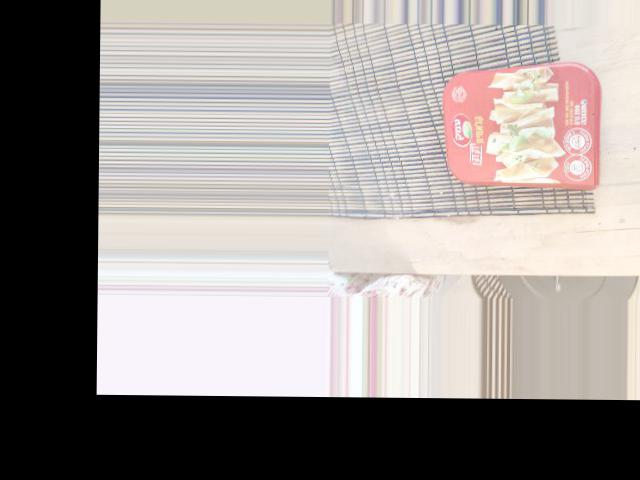cheese: (375, 8, 511, 179)
